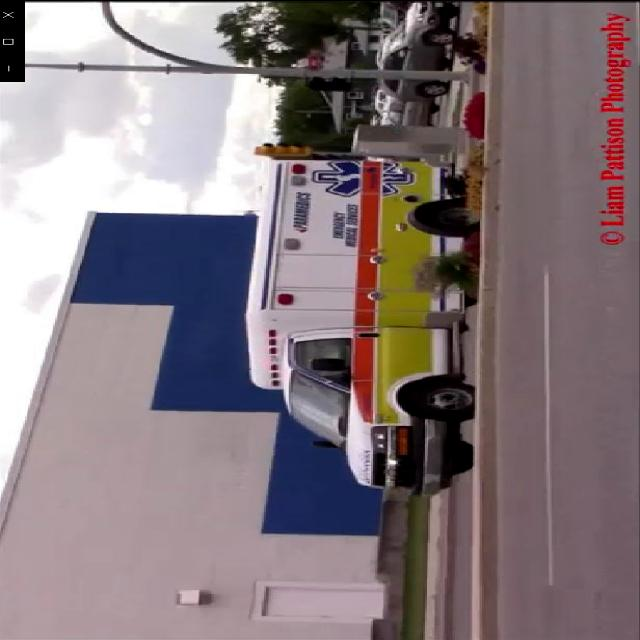emergency: (237, 158, 483, 498)
